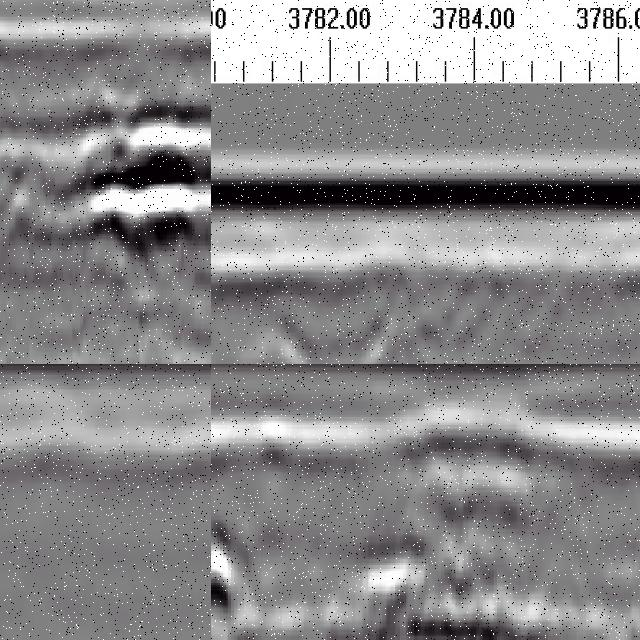loose: (370, 412, 556, 640), (19, 69, 212, 283), (238, 279, 545, 365)
